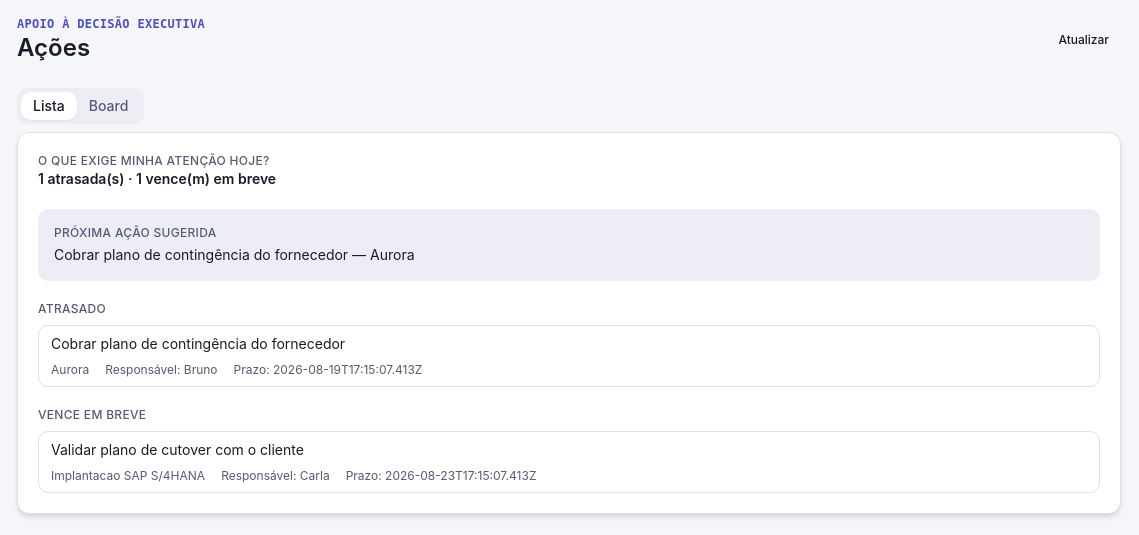
Test case: ActionsPage (portfólio) › shows the same items grouped into board columns when switching to the Board tab
Click the tab "Board": (109, 106) [77, 92, 140, 120]
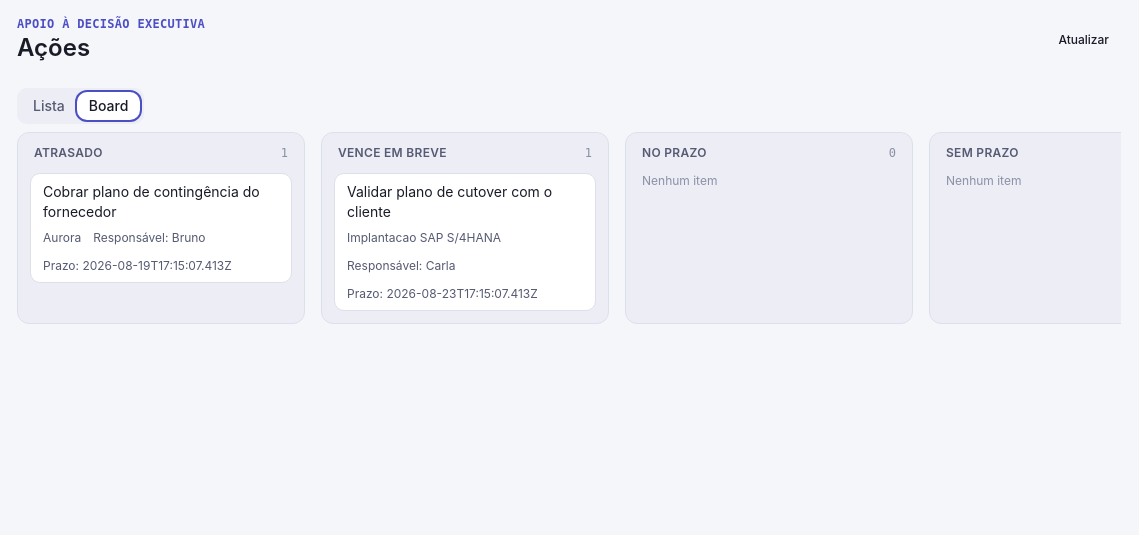
expect the text "Cobrar plano de contingência do fornecedor" is shown: met, box [43, 182, 279, 222]
expect the element with test id "board-view" is shown: met, box [17, 132, 1121, 332]
